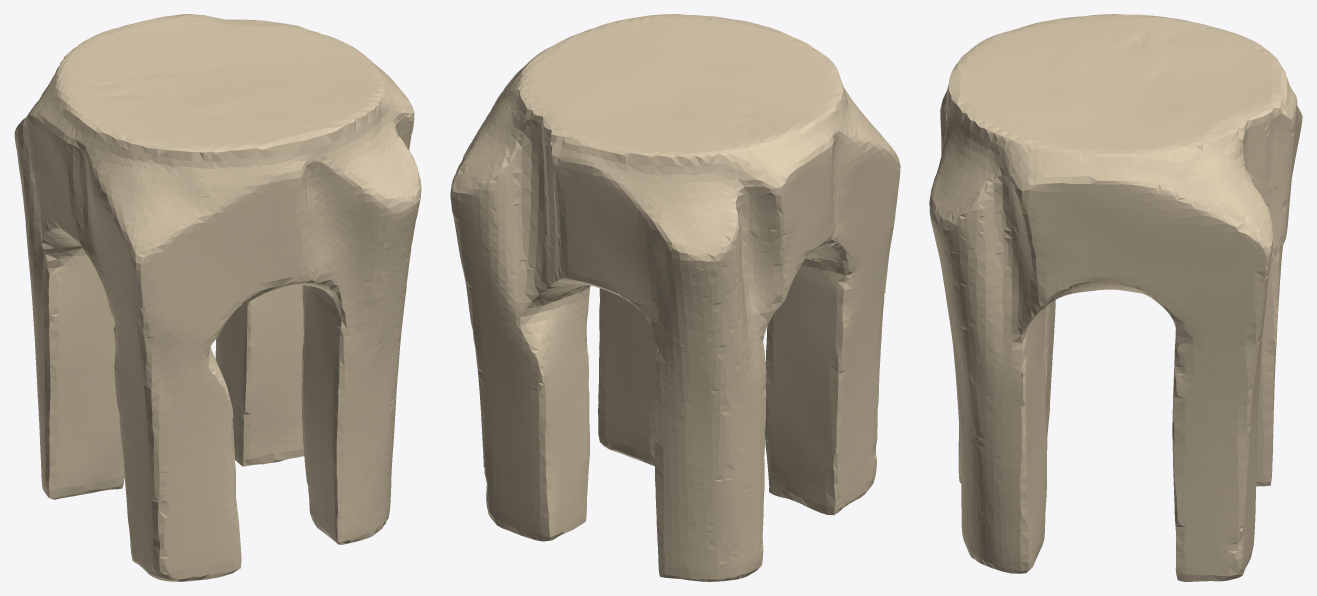
File: stolform-10.glb
The picture shows the model from 3 angles, left to right: view 1: azimuth 30°, elevation 25°; view 2: azimuth 150°, elevation 25°; view 3: azimuth 270°, elevation 25°; orthographic projection. The views are drawn at different scales.
Visible parts, largest first — view 1: stolform-10; view 2: stolform-10; view 3: stolform-10.
Boxes of the visible parts, <box> form: stolform-10: <box>14,14,421,581</box>; stolform-10: <box>450,14,900,581</box>; stolform-10: <box>929,14,1302,581</box>.
Size of the model in its own units: 0.753 by 0.9991 by 0.7673.
